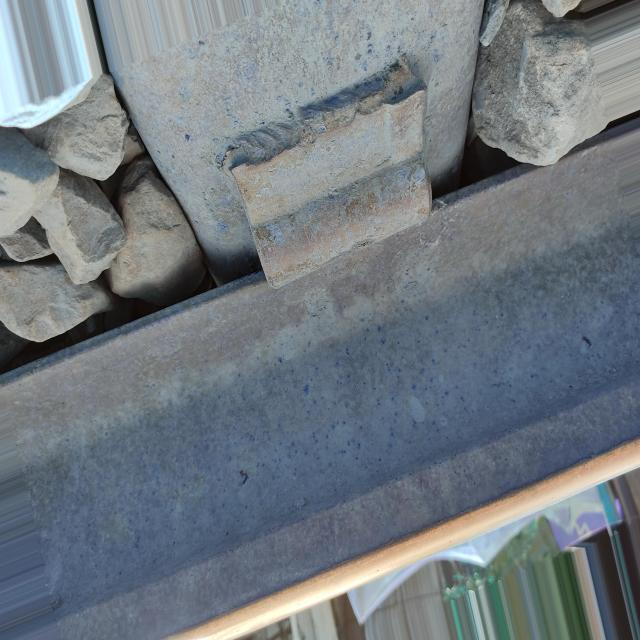Missing Fastener: (226, 58, 431, 287)
